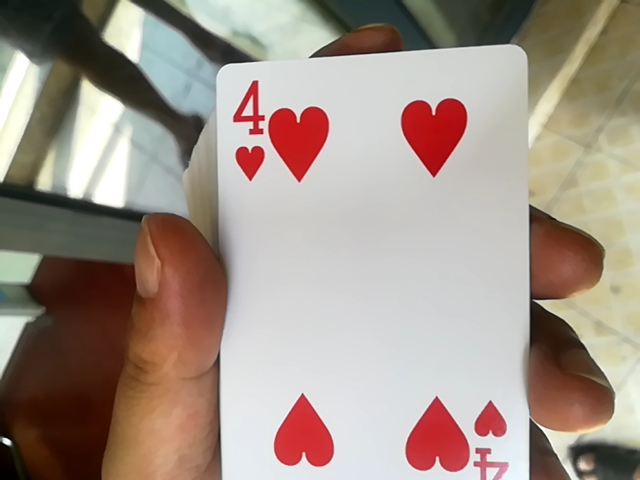hx 4: (210, 42, 553, 472)
